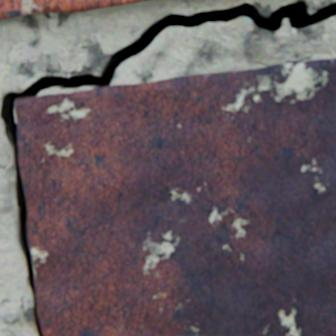brick: (16, 58, 335, 335), (0, 0, 148, 19)
crack: (0, 0, 335, 335)
